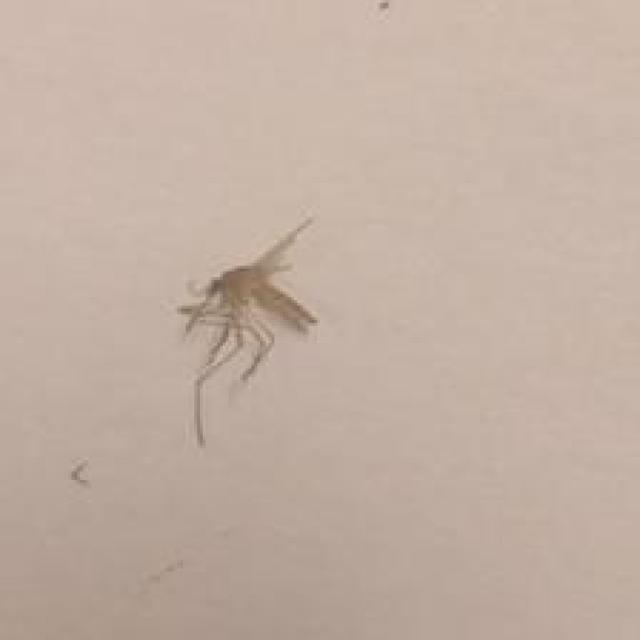Culex: (174, 214, 320, 446)
